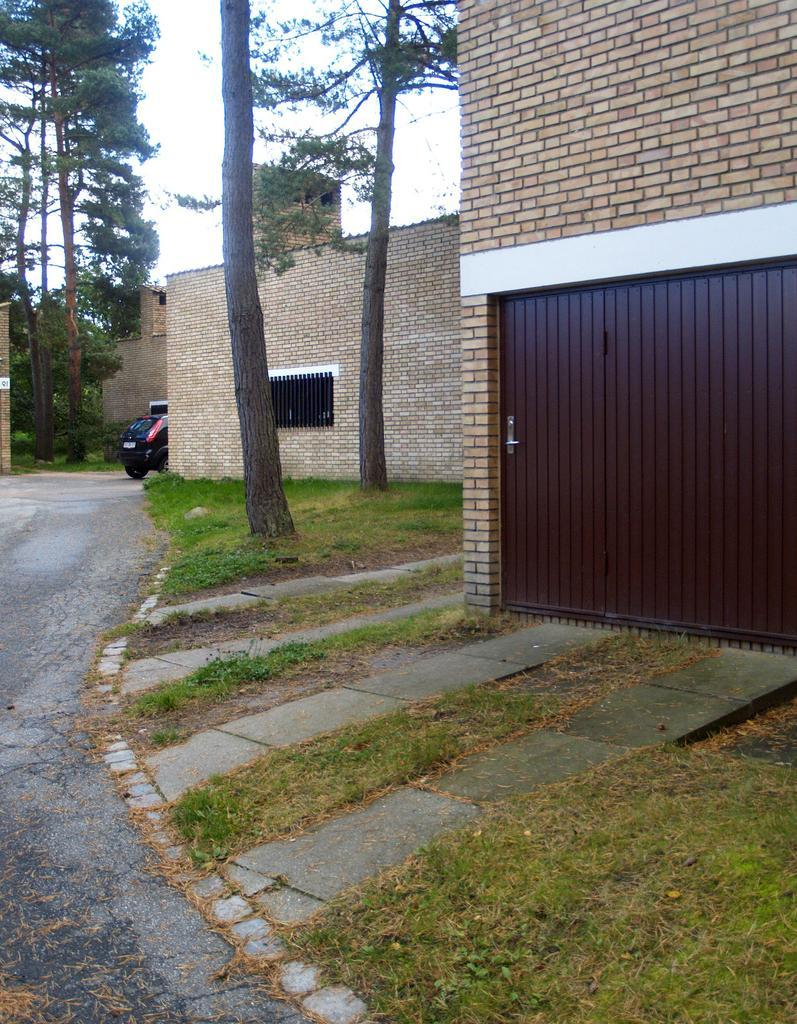door: (500, 294, 608, 610)
handle: (503, 424, 522, 461)
